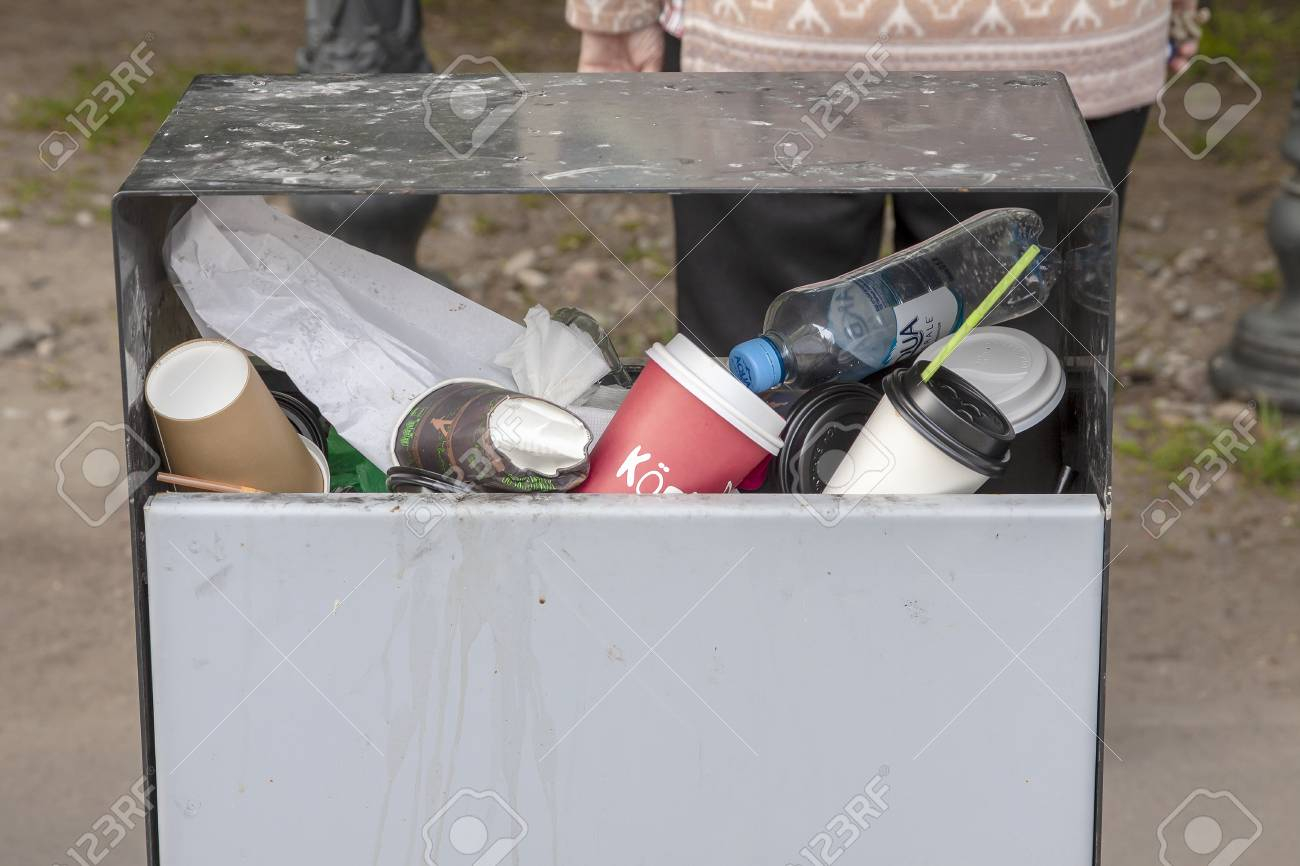cup: (133, 337, 340, 507), (595, 322, 785, 505), (375, 371, 606, 503), (855, 359, 1029, 517), (927, 309, 1084, 483)
plastic_bottle: (705, 188, 1085, 394)
